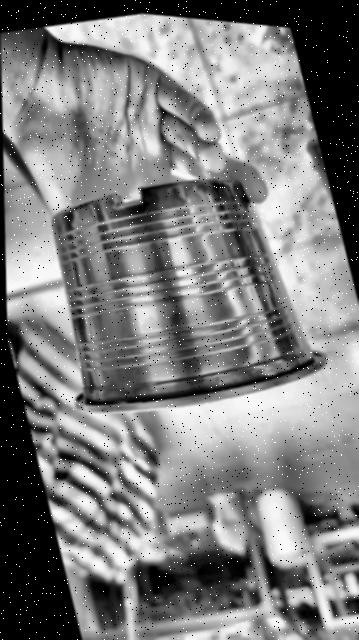pot: (53, 180, 324, 413)
